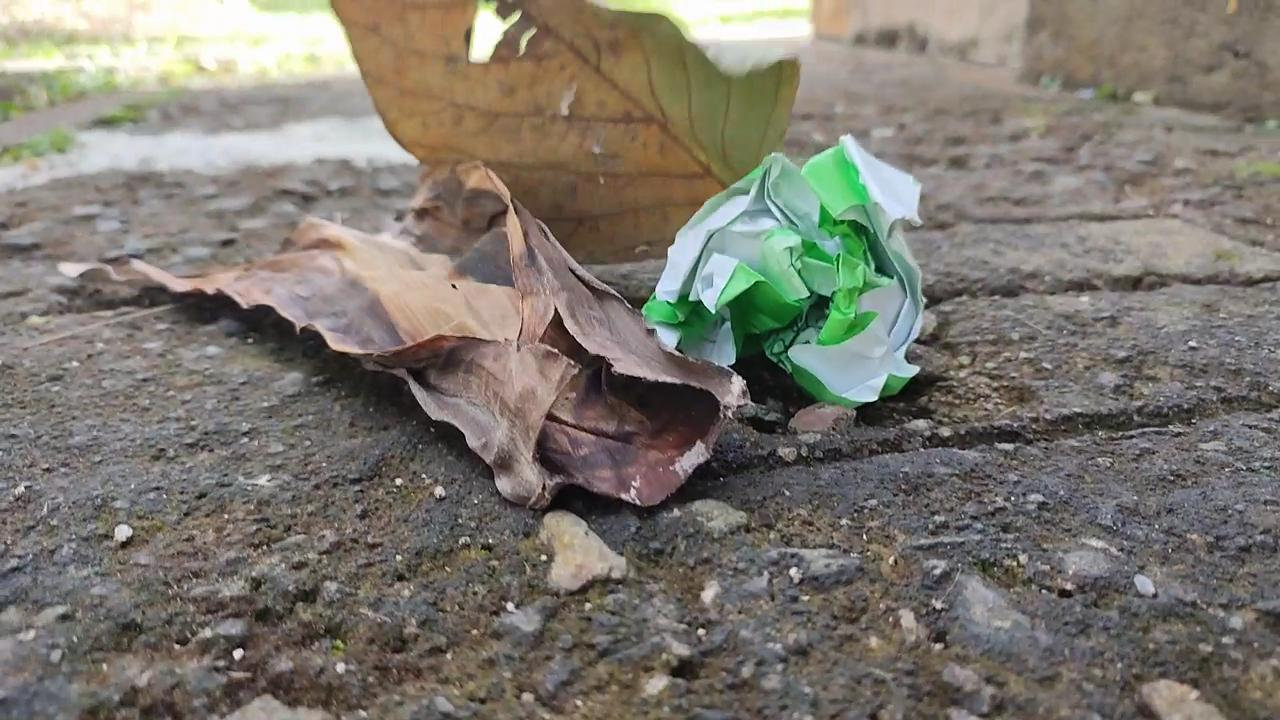Paper: (633, 130, 941, 413)
